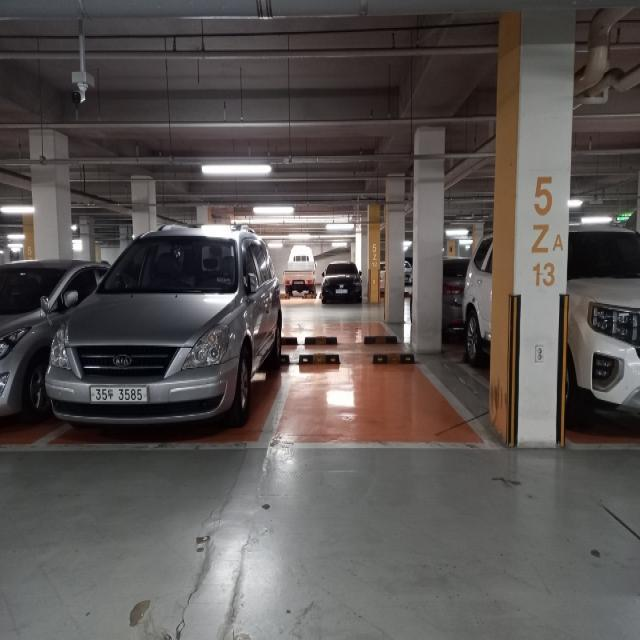empty: (262, 348, 472, 431)
occupied: (53, 223, 276, 430)
